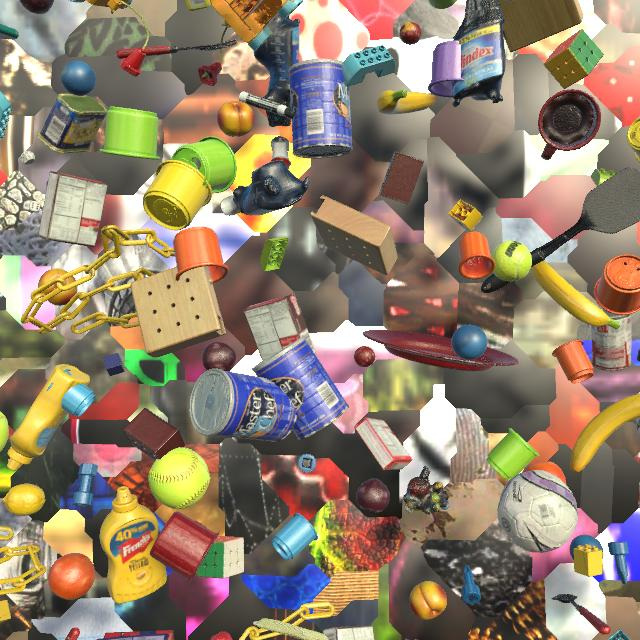ycb_002_master_chef_can: (252, 336, 349, 440), (189, 368, 297, 442), (288, 59, 353, 159)
ycb_004_sugar_box: (185, 0, 211, 11)
ycb_005_tomato_soup_can: (591, 306, 632, 371)
ycb_006_mustard_bottle: (7, 364, 90, 471), (100, 486, 167, 604)
ycb_008_pudding_box: (38, 171, 107, 247), (243, 294, 316, 361), (323, 624, 375, 640)
ycb_009_gelatin_box: (354, 417, 412, 470)
ycb_010_potted_meat_can: (37, 93, 108, 154)
ycb_011_banana: (530, 261, 620, 329), (570, 394, 640, 472), (376, 89, 436, 114)
ycb_012_strawberry: (210, 631, 233, 640)
ycb_014_lemon: (2, 484, 45, 516)
ycb_015_peach: (409, 581, 447, 620), (38, 269, 78, 306), (217, 101, 255, 137)
ycb_017_orange: (48, 553, 95, 600), (522, 461, 566, 484)
ycb_018_plum: (356, 478, 390, 512), (202, 342, 236, 372), (19, 0, 54, 14)
